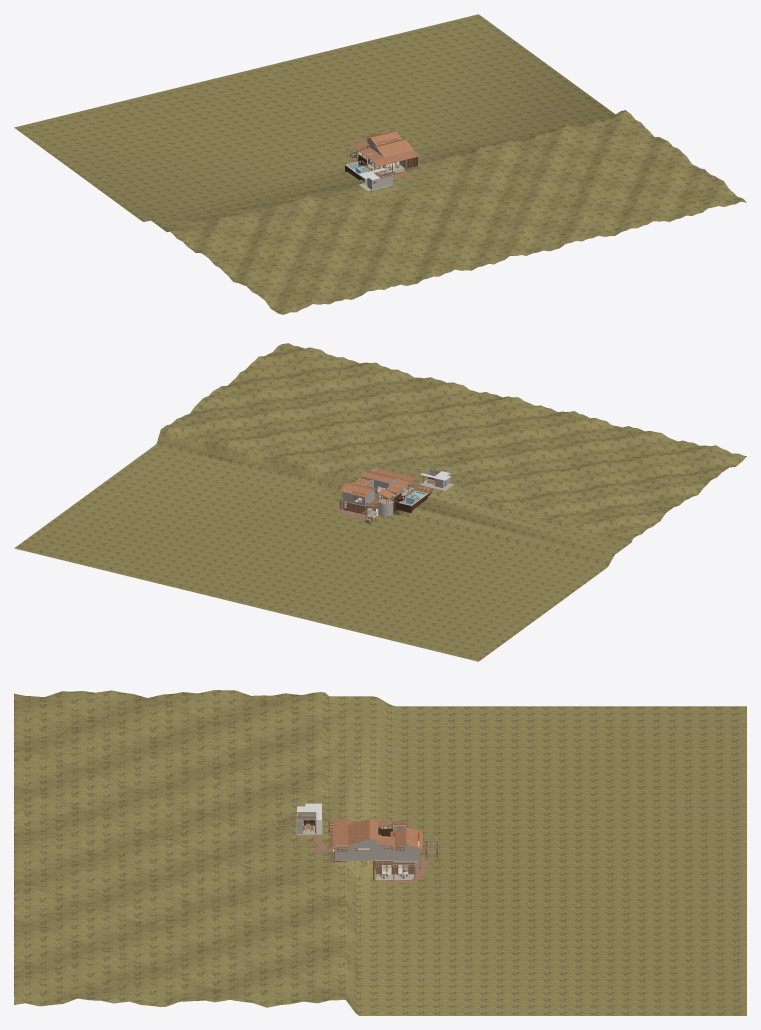
File: casa-chales.glb
3 views of the same model, one above another, from view 1: azimuth 30°, elevation 25°; view 2: azimuth 150°, elevation 25°; view 3: azimuth 270°, elevation 25° (orthographic). The views are drawn at different scales.
Visible parts, largest first — view 1: terreno; view 2: terreno; view 3: terreno, telhado_salao, telhado_suite.
Part boxes in pixels (x1,y1,x2,y2): terreno: [14, 14, 746, 314]; terreno: [14, 343, 746, 661]; terreno: [14, 690, 746, 1015]; telhado_salao: [348, 818, 378, 845]; telhado_suite: [390, 827, 422, 849].
Size of the model in its own units: 140 by 8.14 by 140.
Materials: 60 (59 with a texture image).
